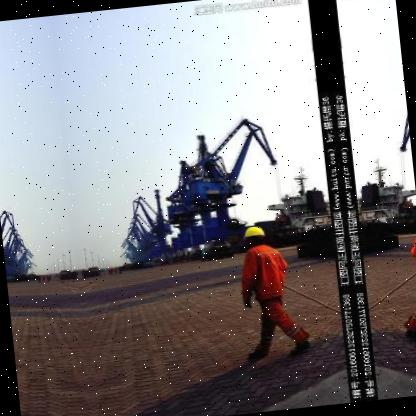capacete: (238, 219, 268, 246)
